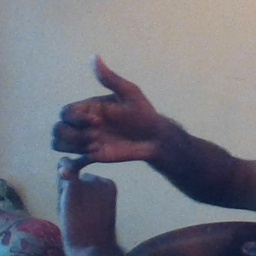S: (41, 52, 158, 229)
